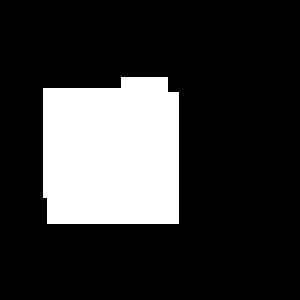circle: (47, 92, 179, 224), (43, 88, 153, 198), (121, 77, 168, 124)
